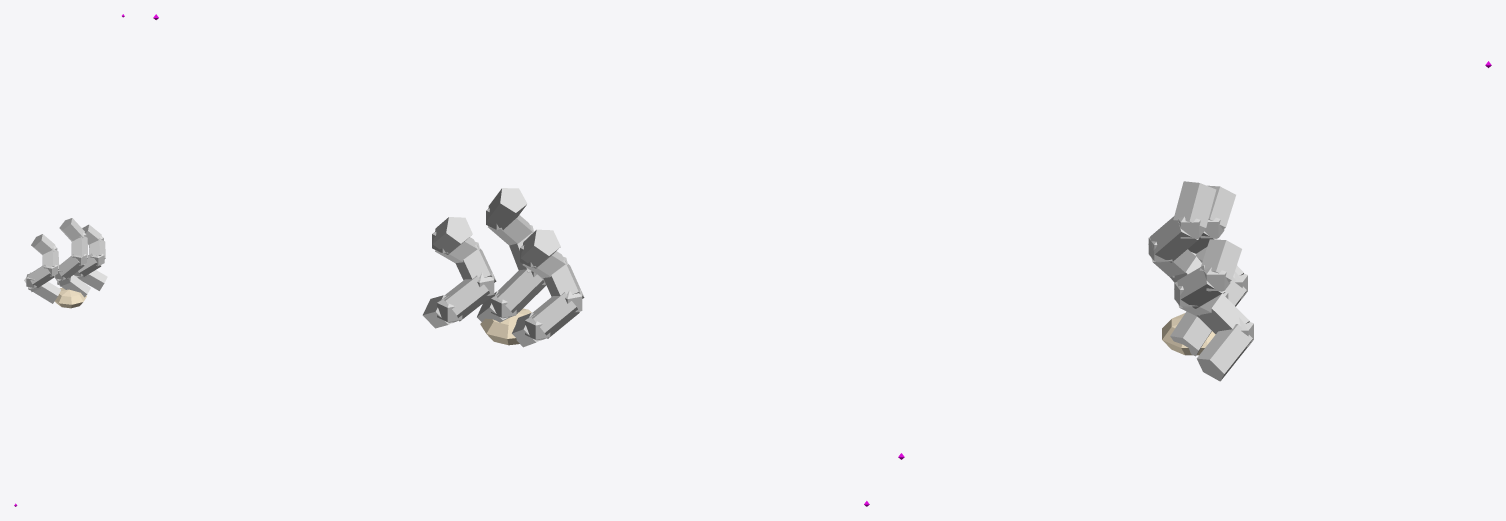
Rendered from acc_steam.fbx.
3 views of the same model, side by side, from view 1: azimuth 30°, elevation 25°; view 2: azimuth 150°, elevation 25°; view 3: azimuth 270°, elevation 25° (orthographic). The views are drawn at different scales.
Parts seen in each view (by area): view 1: Steam, Pleat; view 2: Steam, Pleat; view 3: Steam.
Boxes of the visible parts, x1,y1,x2,y2 form: Steam: (24, 218, 107, 303); Pleat: (54, 287, 86, 308); Steam: (422, 188, 584, 347); Pleat: (480, 308, 531, 345); Steam: (1148, 181, 1253, 381).
Size of the model in its own units: 2.99 by 3.6 by 2.99.
